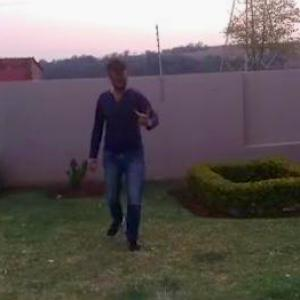takeoff-hand: (130, 103, 164, 132)
